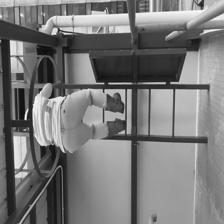Feet: (90, 80, 120, 114), (95, 114, 138, 133)
Hand: (35, 76, 58, 92)
Ladder: (21, 79, 199, 143)
